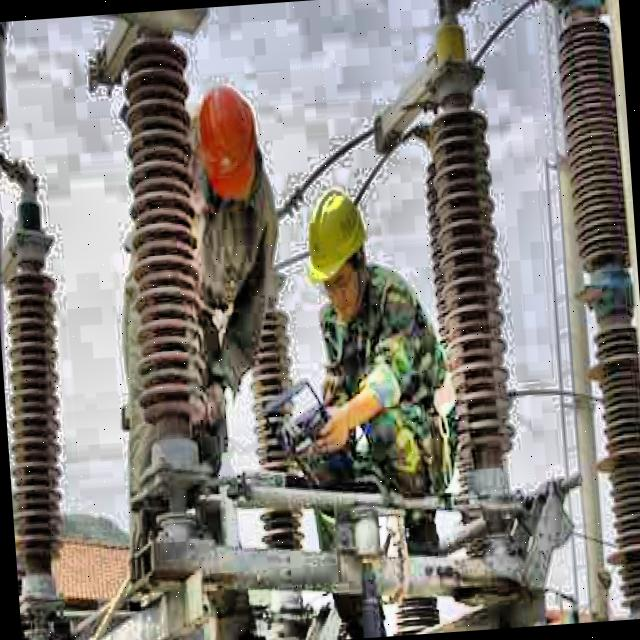helmet: (293, 180, 378, 322), (189, 76, 267, 214)
